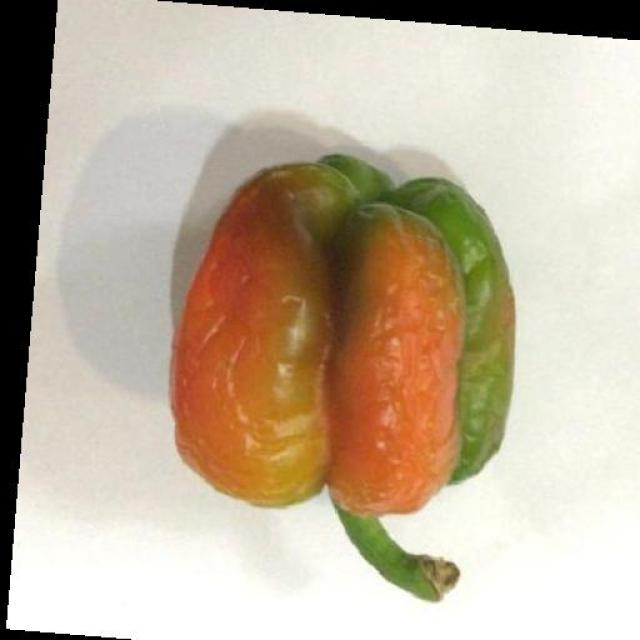Stale_Capsicum: (141, 138, 531, 621)
